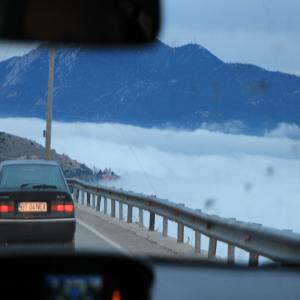Vehicle-registration-plate: (20, 202, 48, 213)
